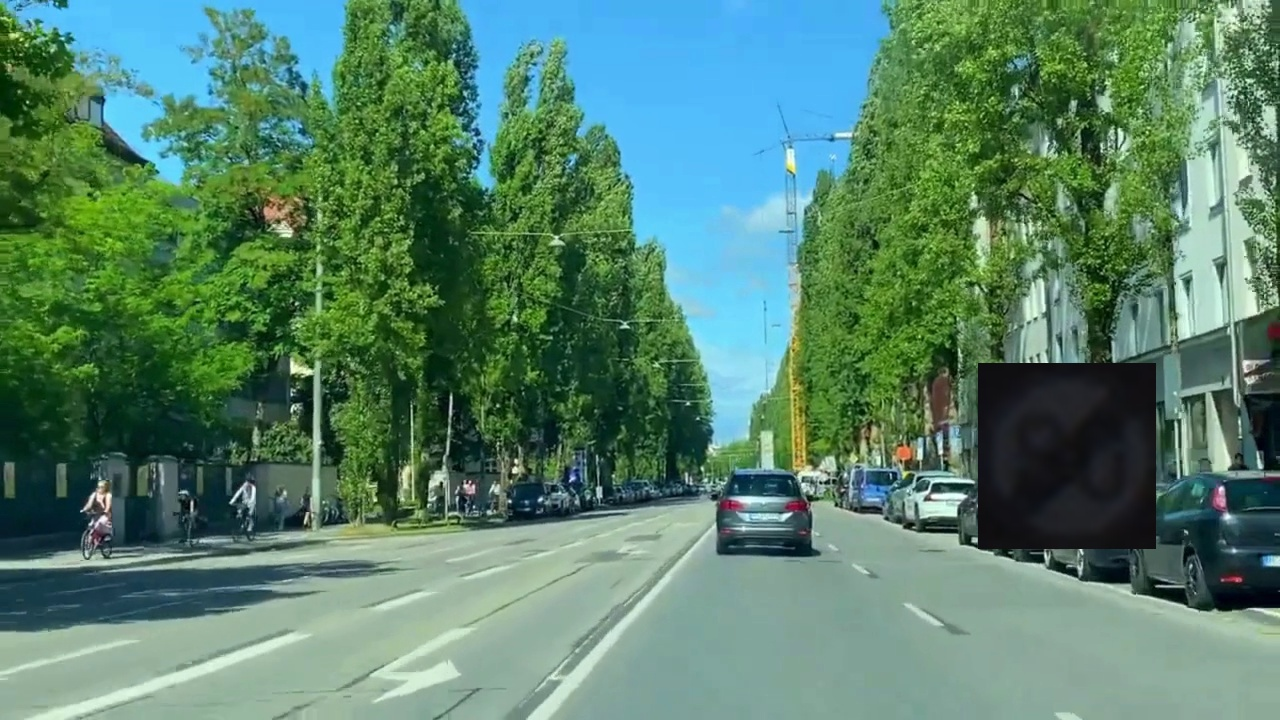End Speed 80: (978, 363, 1156, 549)
